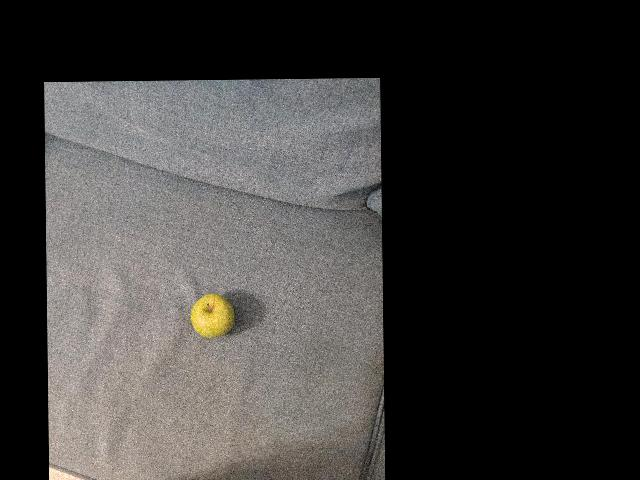apple: (176, 293, 231, 351)
